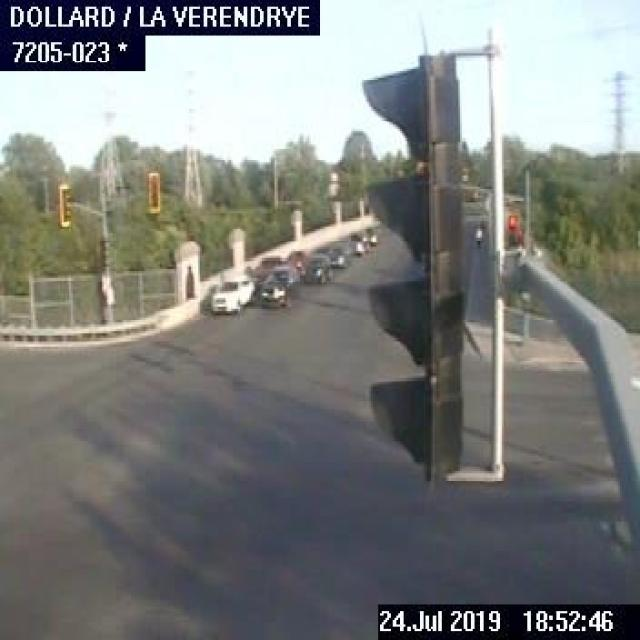pedestrian: (473, 222, 484, 252)
vehicle: (209, 270, 254, 316), (258, 264, 298, 310), (300, 251, 331, 286), (326, 240, 349, 266), (345, 230, 366, 256)
